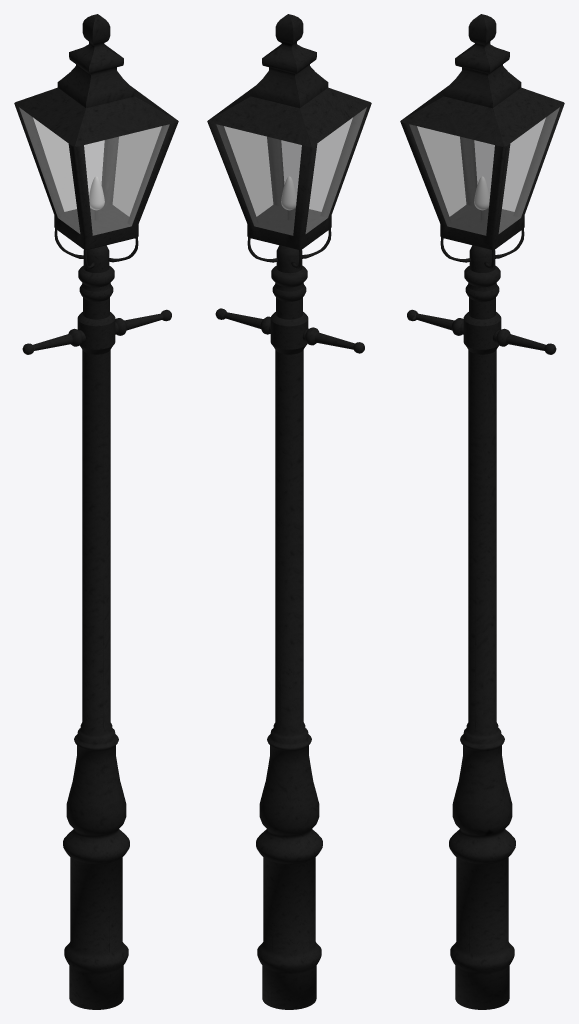
The model's file is eng_street_lamp.glb.
3 renders of one model, left to right at view 1: azimuth 30°, elevation 25°; view 2: azimuth 150°, elevation 25°; view 3: azimuth 330°, elevation 25°, orthographic.
Parts seen in each view (by area): view 1: Object_4, Object_2, Object_3; view 2: Object_4, Object_2, Object_3; view 3: Object_4, Object_2, Object_3.
Boxes of the visible parts, x1=… form: Object_4: x1=14, y1=14, x2=178, y2=1009; Object_2: x1=19, y1=107, x2=169, y2=235; Object_3: x1=89, y1=176, x2=104, y2=209; Object_4: x1=207, y1=14, x2=371, y2=1009; Object_2: x1=216, y1=107, x2=366, y2=235; Object_3: x1=281, y1=176, x2=296, y2=209; Object_4: x1=400, y1=14, x2=564, y2=1009; Object_2: x1=409, y1=107, x2=559, y2=235; Object_3: x1=474, y1=176, x2=489, y2=209.
Bounding box in the file's own units: 1.41 × 9.05 × 1.02.
3 materials, 1 textured.
